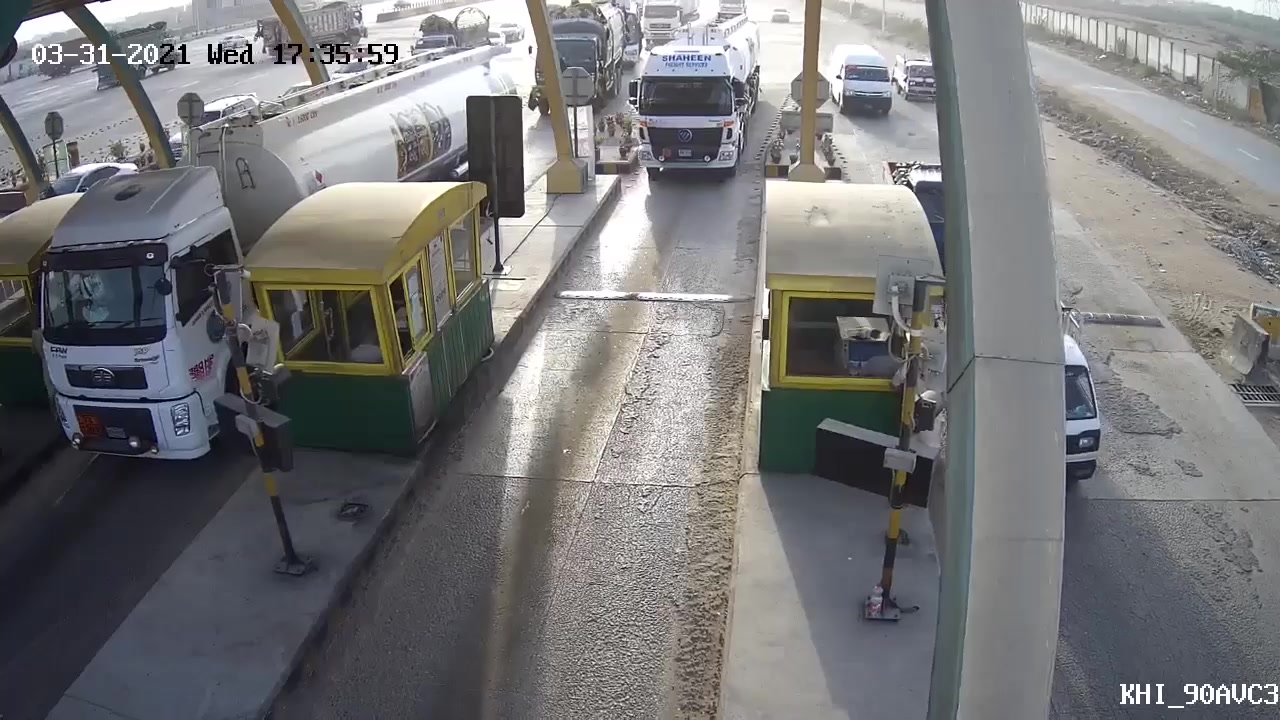F5: (626, 42, 759, 195)
